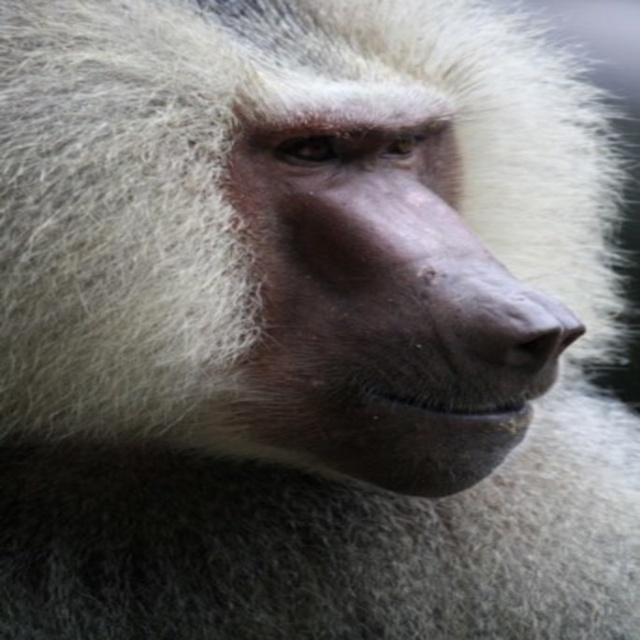Monkey: (1, 0, 638, 640)
